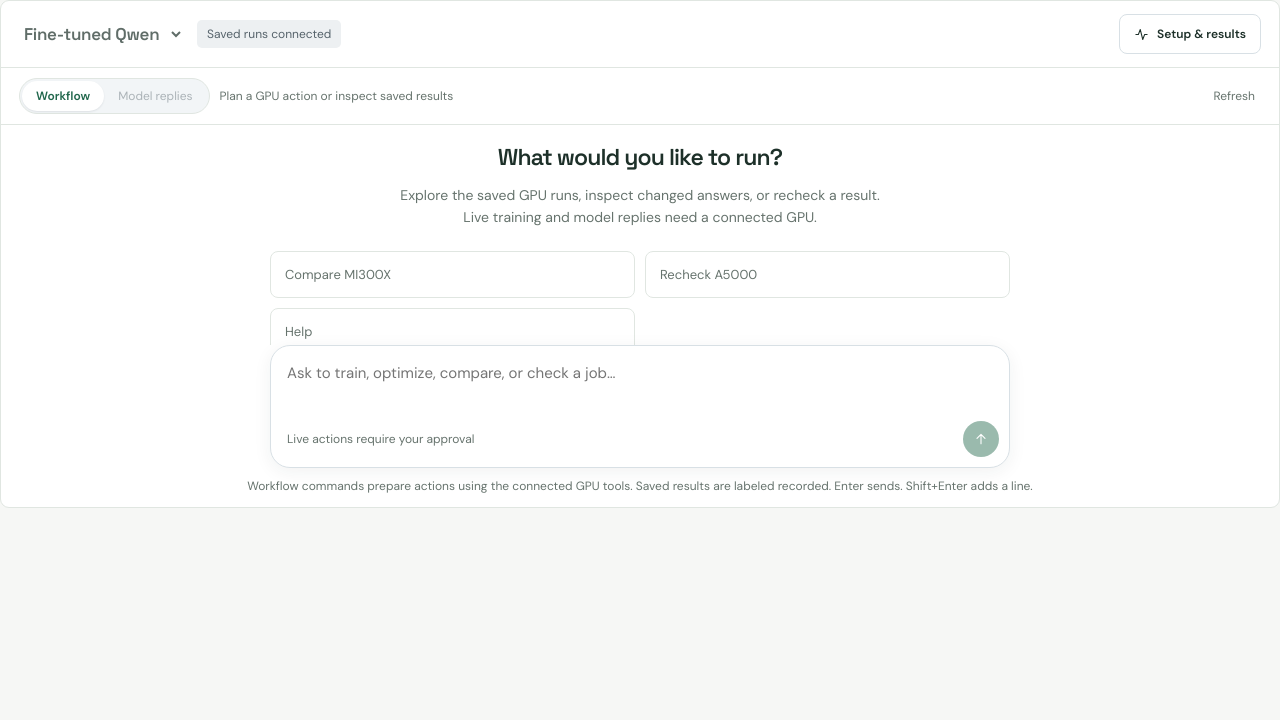
Test: compare saved MI300X own baseline responds in chat, selects sidebar evidence, and performs only GETs
Step 1. Type "compare saved MI300X own baseline" into the text box named "Message GPU workflow" → (643, 384), box [287, 354, 999, 415]
Then press Enter
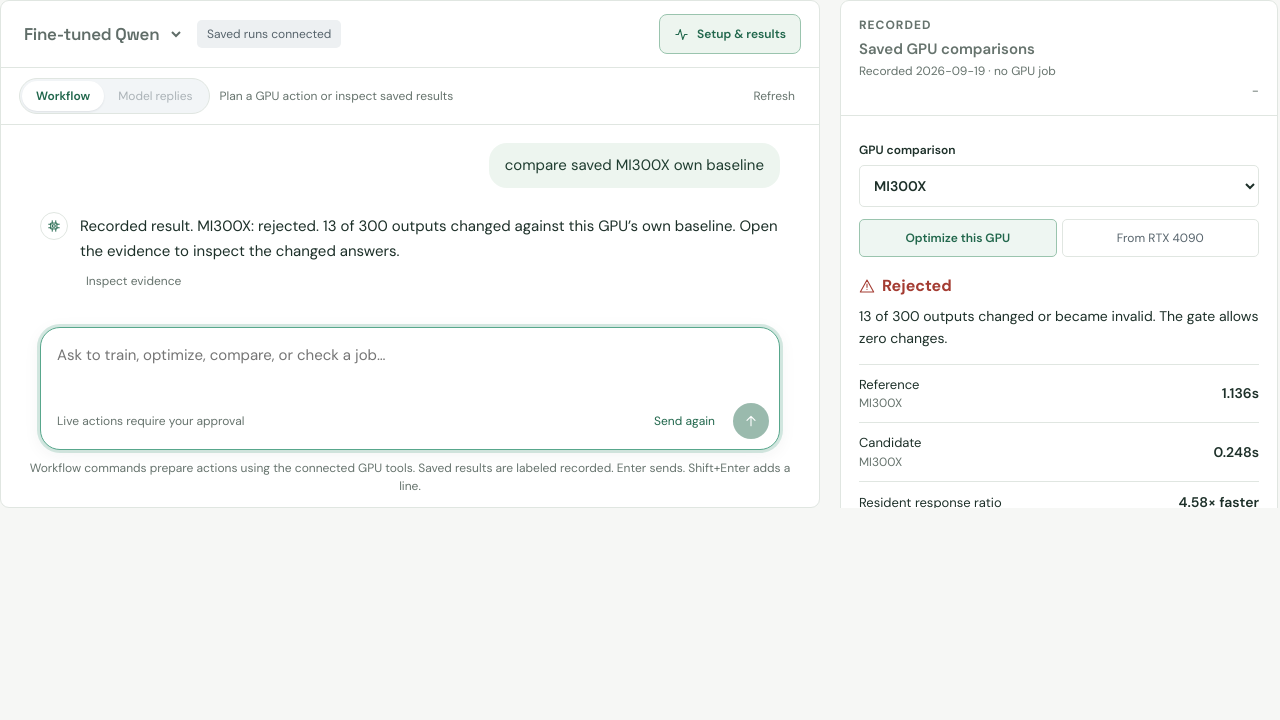
Expected: the text box named "Message GPU workflow" is enabled, [57, 336, 769, 397]
Result: the element named "Experiment" is shown at [840, 0, 1279, 508]
Result: the dropdown labelled "GPU comparison" shows "MI300X" at [859, 165, 1259, 207]
